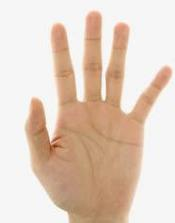down: (21, 7, 174, 210)
